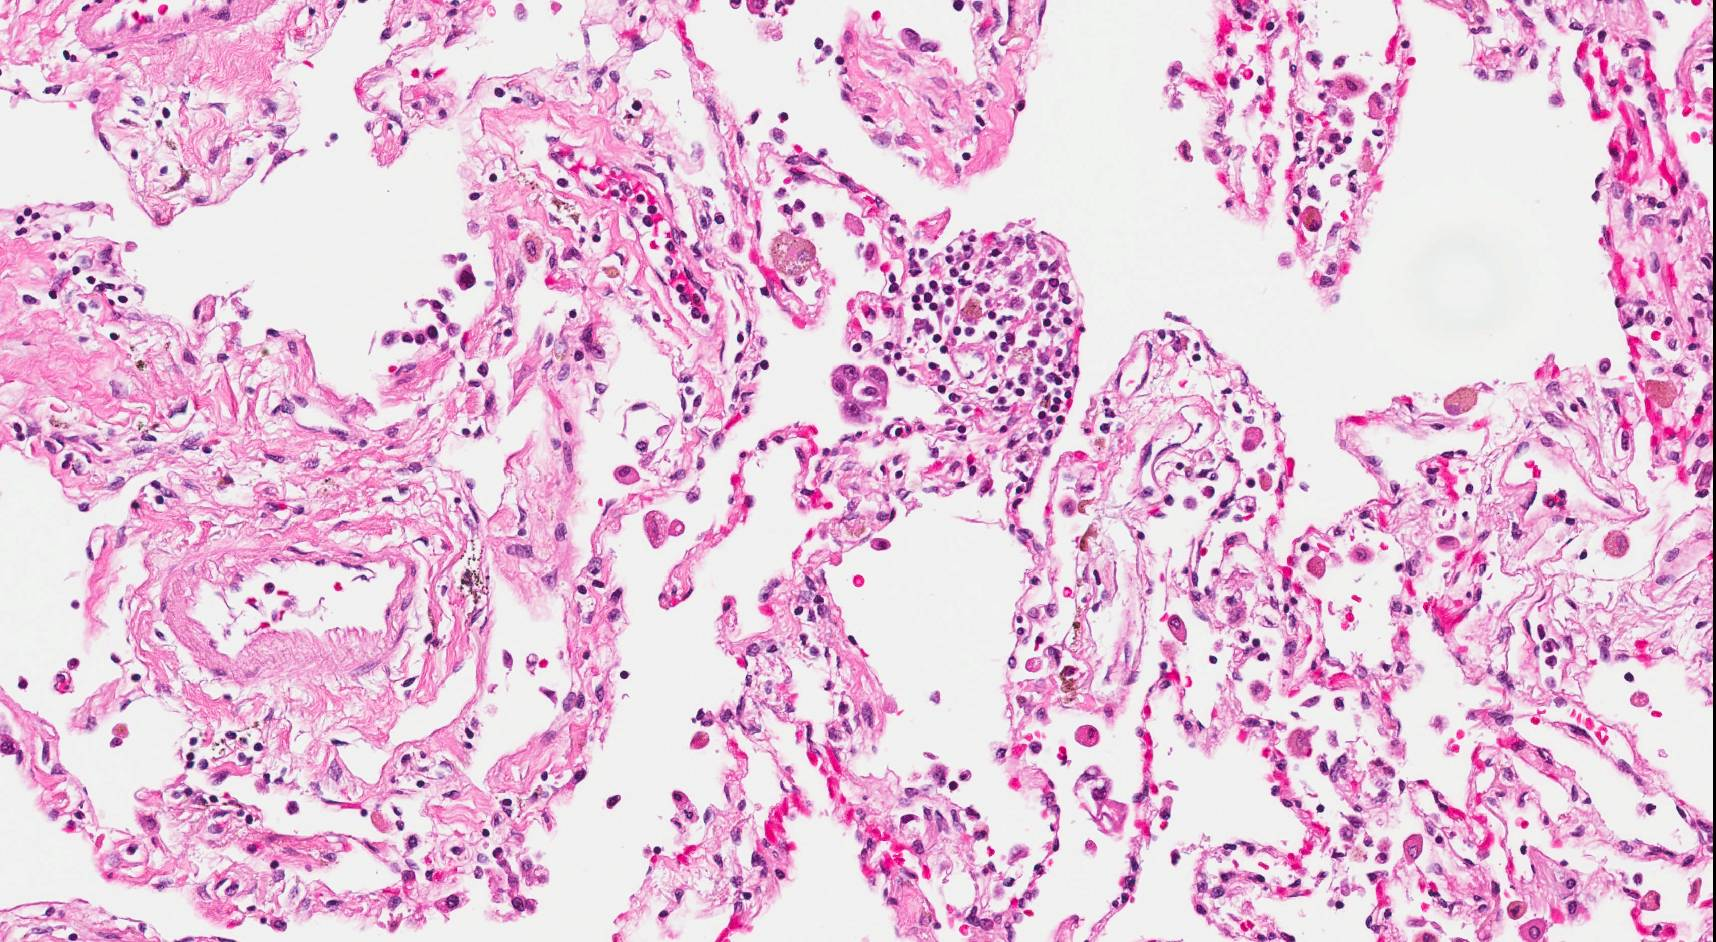stas: (831, 360, 891, 426)
